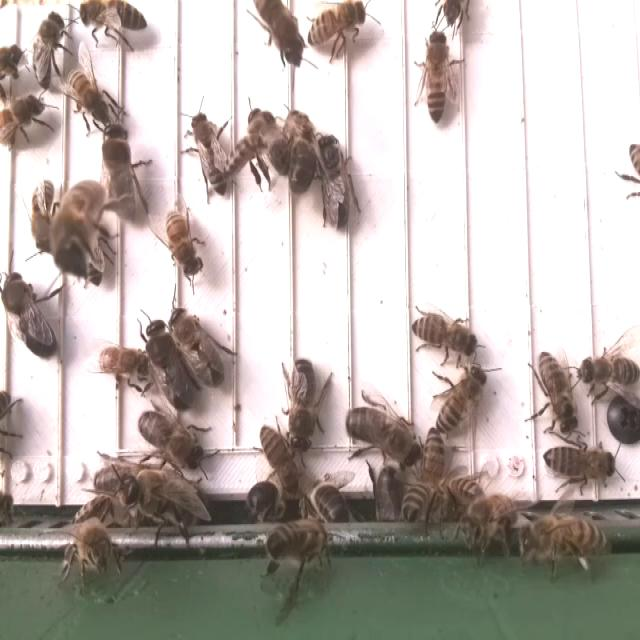Drone: (0, 270, 60, 363), (344, 400, 422, 468), (144, 314, 194, 415), (170, 305, 227, 390), (134, 404, 204, 472), (102, 119, 144, 226), (318, 132, 354, 235), (286, 353, 317, 459), (287, 103, 318, 195)
Worker: (534, 346, 578, 440), (434, 363, 489, 436), (188, 108, 232, 196), (541, 442, 618, 488), (162, 203, 205, 281), (408, 310, 481, 355), (304, 0, 368, 51), (256, 419, 298, 496), (31, 10, 66, 95), (421, 28, 451, 126), (75, 0, 153, 36), (66, 62, 111, 121), (577, 352, 640, 393), (28, 171, 57, 259), (94, 340, 150, 385)
